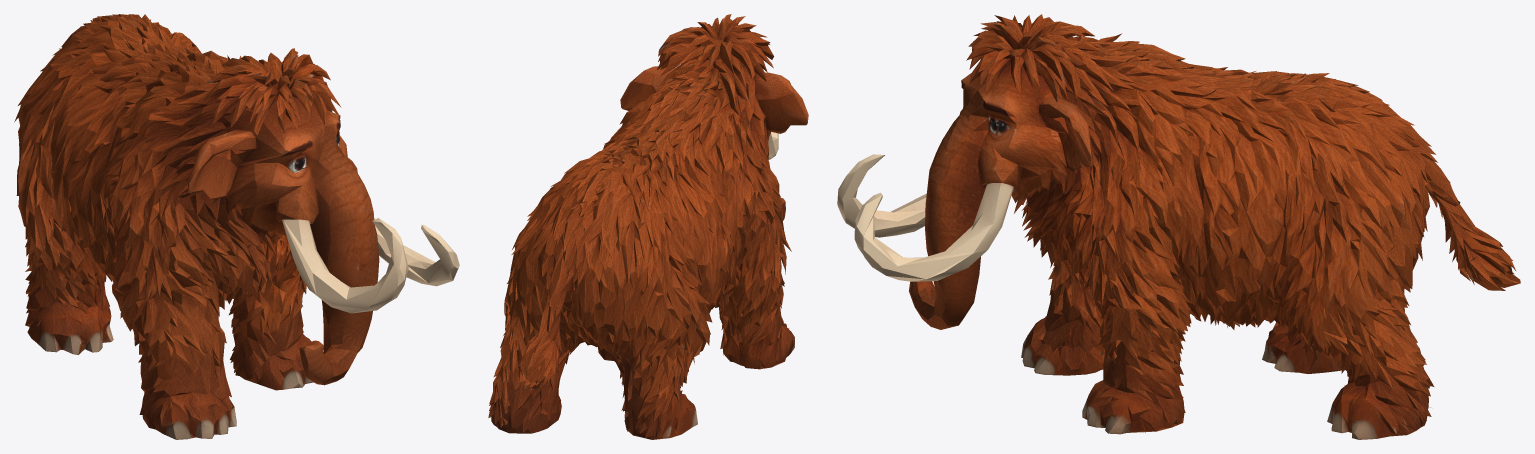
The picture shows the model from 3 angles, left to right: view 1: azimuth 30°, elevation 25°; view 2: azimuth 150°, elevation 25°; view 3: azimuth 270°, elevation 25°; orthographic projection. The views are drawn at different scales.
Visible parts, largest first — view 1: Mesh_0; view 2: Mesh_0; view 3: Mesh_0.
Boxes of the visible parts, left/top/right/bottom form: Mesh_0: left=14, top=14, right=459, bottom=439; Mesh_0: left=488, top=14, right=808, bottom=439; Mesh_0: left=837, top=14, right=1520, bottom=439.
Bounding box in the file's own units: 0.7365 × 1.13 × 1.9.
Materials: 1 (1 with a texture image).
